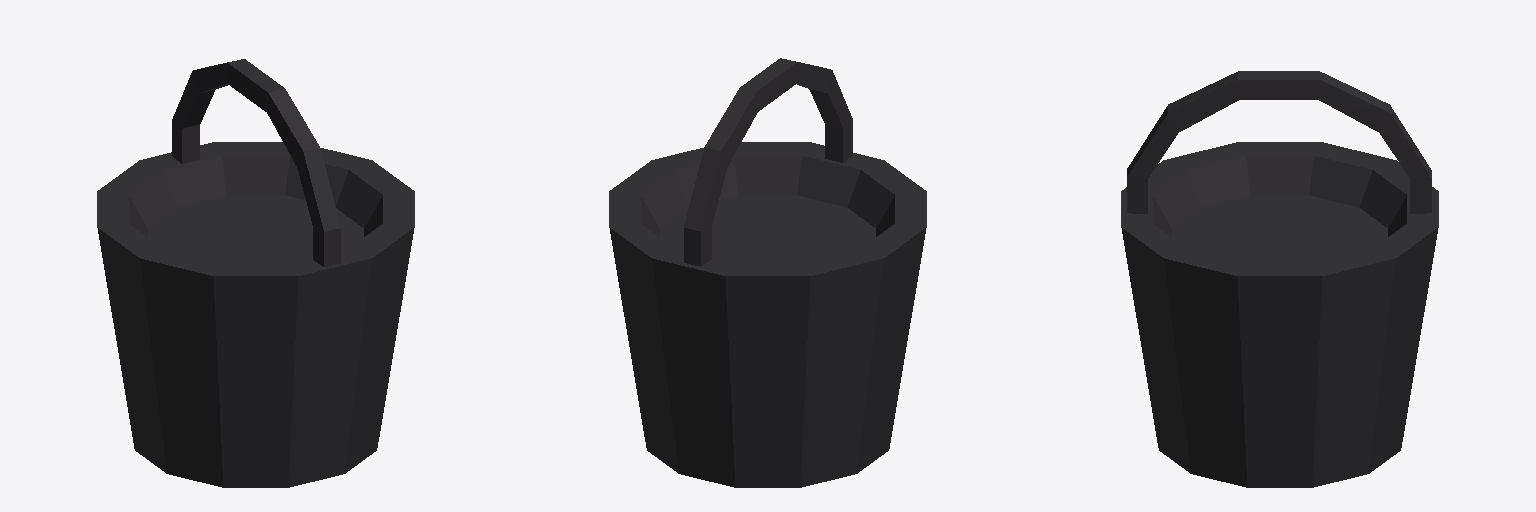
The model's file is bucket_001.obj.
3 views of the same model, side by side, from view 1: azimuth 30°, elevation 25°; view 2: azimuth 150°, elevation 25°; view 3: azimuth 270°, elevation 25° (orthographic).
Visible parts, largest first — view 1: bucket_001; view 2: bucket_001; view 3: bucket_001.
Part boxes in pixels (left/top/right/bottom): bucket_001: left=97, top=59, right=414, bottom=487; bucket_001: left=609, top=58, right=926, bottom=487; bucket_001: left=1121, top=71, right=1438, bottom=487.
Size of the model in its own units: 0.3793 by 0.4764 by 0.3793.